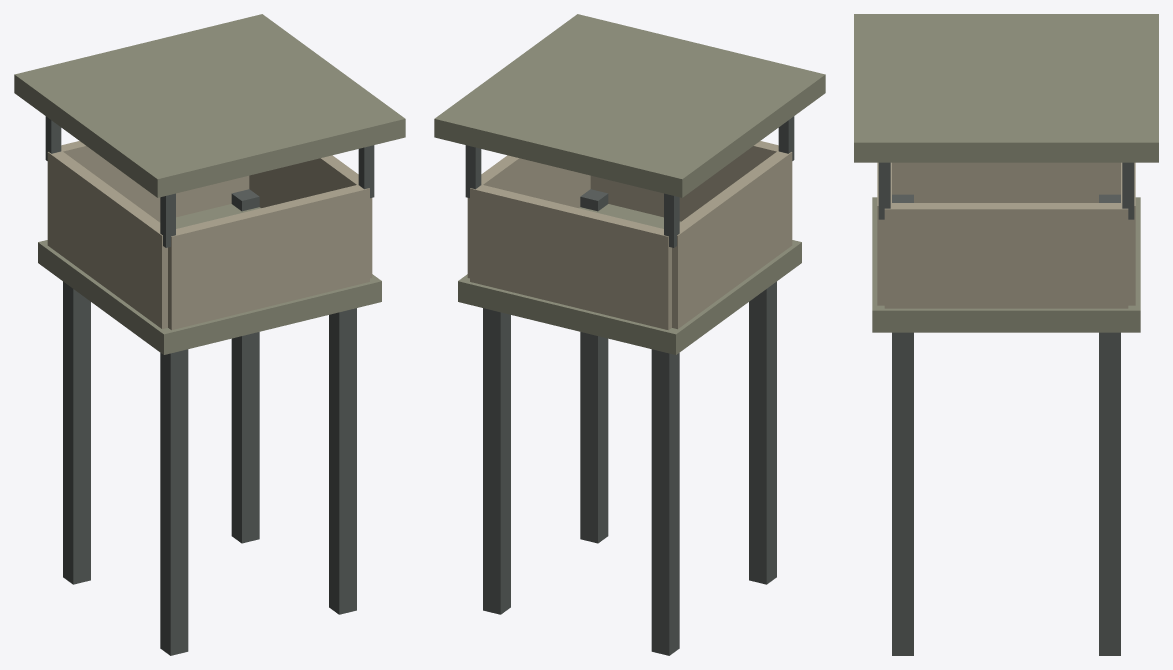
The model's file is guard-tower.glb.
3 renders of one model, left to right at view 1: azimuth 30°, elevation 25°; view 2: azimuth 150°, elevation 25°; view 3: azimuth 270°, elevation 25°, orthographic. The views are drawn at different scales.
Parts seen in each view (by area): view 1: guard-tower-9, guard-tower-6, guard-tower-7, guard-tower-4, guard-tower-2, guard-tower-3, guard-tower-0, guard-tower-1, guard-tower-5, guard-tower-8, guard-tower-13, guard-tower-12; view 2: guard-tower-9, guard-tower-5, guard-tower-7, guard-tower-4, guard-tower-0, guard-tower-1, guard-tower-2, guard-tower-3, guard-tower-6, guard-tower-8, guard-tower-11, guard-tower-10; view 3: guard-tower-9, guard-tower-8, guard-tower-7, guard-tower-4, guard-tower-1, guard-tower-3, guard-tower-5, guard-tower-6, guard-tower-11, guard-tower-13.
Part boxes in pixels (left/top/right/bottom): guard-tower-9: left=14, top=14, right=405, bottom=197; guard-tower-6: left=168, top=184, right=369, bottom=330; guard-tower-7: left=47, top=150, right=167, bottom=329; guard-tower-4: left=38, top=204, right=381, bottom=354; guard-tower-2: left=160, top=349, right=188, bottom=655; guard-tower-3: left=329, top=308, right=356, bottom=614; guard-tower-0: left=63, top=281, right=90, bottom=584; guard-tower-1: left=231, top=189, right=259, bottom=543; guard-tower-5: left=57, top=141, right=249, bottom=221; guard-tower-8: left=249, top=155, right=372, bottom=278; guard-tower-13: left=358, top=145, right=374, bottom=198; guard-tower-12: left=160, top=193, right=175, bottom=247; guard-tower-9: left=434, top=14, right=825, bottom=197; guard-tower-5: left=470, top=184, right=671, bottom=330; guard-tower-7: left=672, top=150, right=792, bottom=329; guard-tower-4: left=458, top=204, right=801, bottom=354; guard-tower-0: left=651, top=349, right=679, bottom=655; guard-tower-1: left=483, top=308, right=510, bottom=614; guard-tower-2: left=749, top=281, right=776, bottom=584; guard-tower-3: left=580, top=189, right=608, bottom=543; guard-tower-6: left=590, top=141, right=782, bottom=221; guard-tower-8: left=467, top=155, right=590, bottom=278; guard-tower-11: left=465, top=145, right=481, bottom=198; guard-tower-10: left=664, top=193, right=679, bottom=247; guard-tower-9: left=854, top=14, right=1158, bottom=162; guard-tower-8: left=884, top=203, right=1128, bottom=308; guard-tower-7: left=892, top=162, right=1120, bottom=202; guard-tower-4: left=872, top=197, right=1140, bottom=332; guard-tower-1: left=1099, top=332, right=1120, bottom=655; guard-tower-3: left=892, top=332, right=913, bottom=655; guard-tower-5: left=1121, top=162, right=1135, bottom=305; guard-tower-6: left=877, top=162, right=891, bottom=305; guard-tower-11: left=1122, top=162, right=1134, bottom=219; guard-tower-13: left=878, top=162, right=890, bottom=219.
Bounding box in the file's own units: 2.5 × 4.79 × 2.5.
